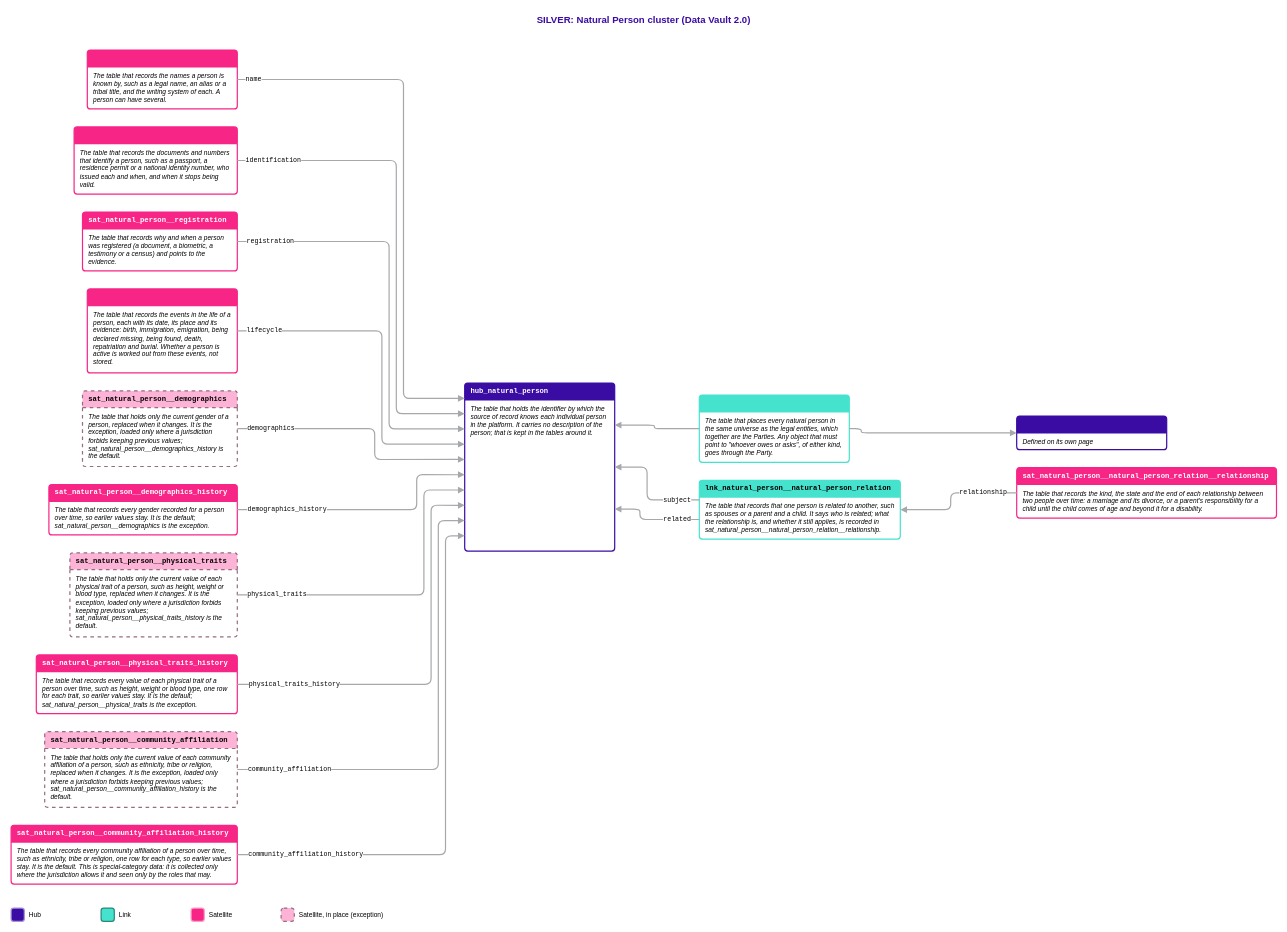
Image size: 1287x932. Some labels were removed from this diagram. Here are the shapes that lost their labels. From the top down, the box of each, then its label:
(86, 49, 238, 109): sat_natural_person__name
(73, 126, 238, 194): sat_natural_person__identification
(86, 288, 238, 373): sat_natural_person__lifecycle
(698, 394, 850, 463): lnk_natural_person__party
(1016, 415, 1167, 450): hub_party
